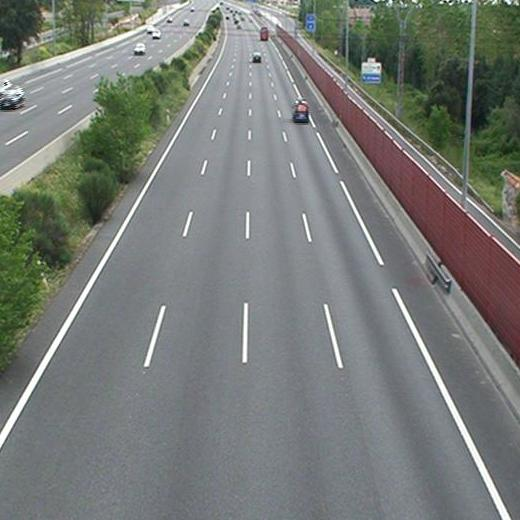bus: (259, 24, 269, 40)
car: (253, 52, 263, 62)
van: (294, 101, 308, 120)
